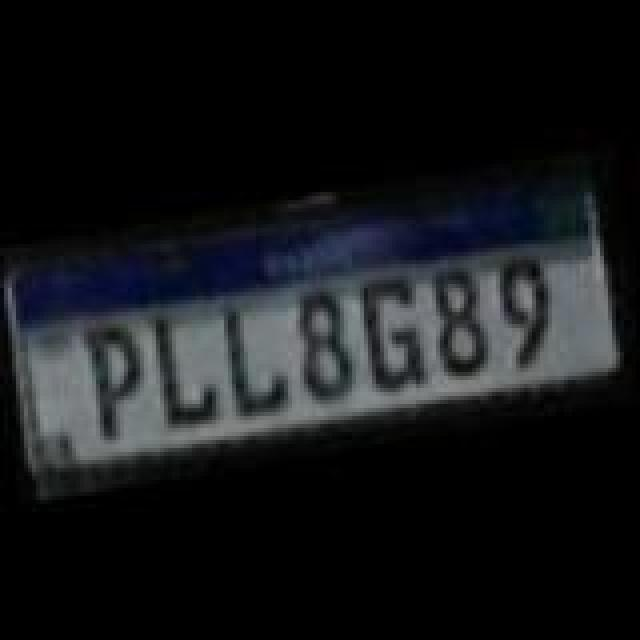8: (420, 256, 500, 388), (286, 276, 362, 408)
9: (484, 242, 564, 374)
G: (350, 266, 426, 394)
L: (140, 302, 220, 438), (212, 290, 292, 418)
P: (80, 318, 152, 450)
